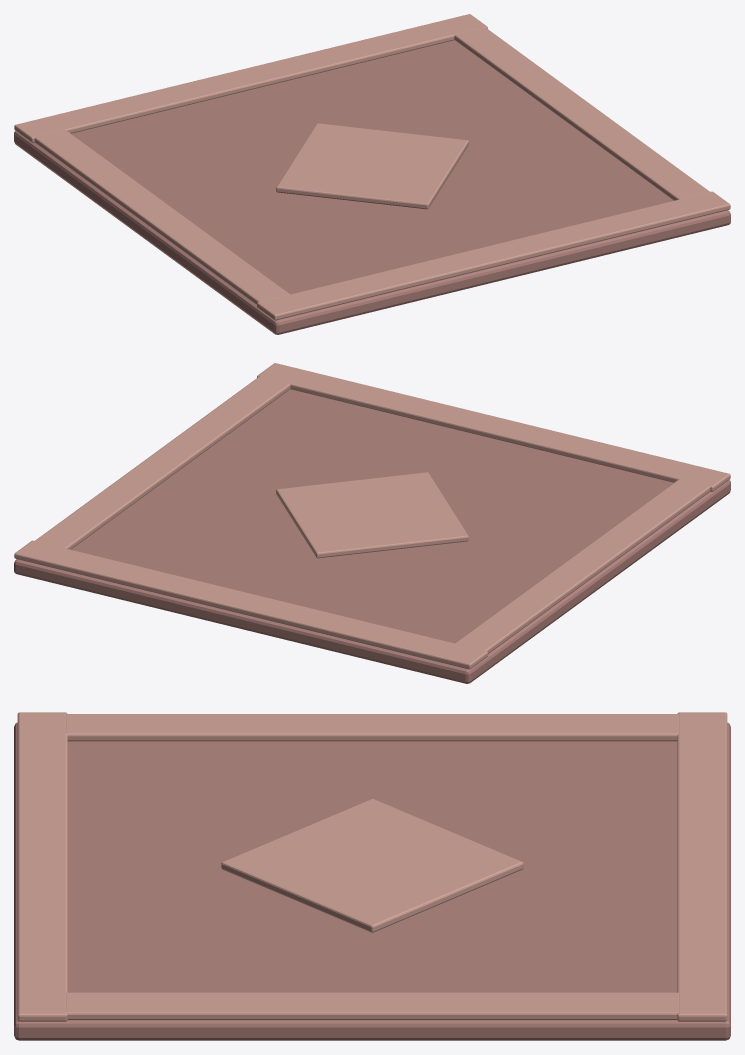
The model's file is ковер.glb.
3 renders of one model, top to bottom at view 1: azimuth 30°, elevation 25°; view 2: azimuth 150°, elevation 25°; view 3: azimuth 270°, elevation 25°, orthographic. The views are drawn at different scales.
Visible parts, largest first — view 1: ковер; view 2: ковер; view 3: ковер.
Boxes of the visible parts, <box> form: ковер: <box>14,14,730,334</box>; ковер: <box>14,363,730,683</box>; ковер: <box>14,712,730,1040</box>.
Size of the model in its own units: 1 by 0.045 by 1.
